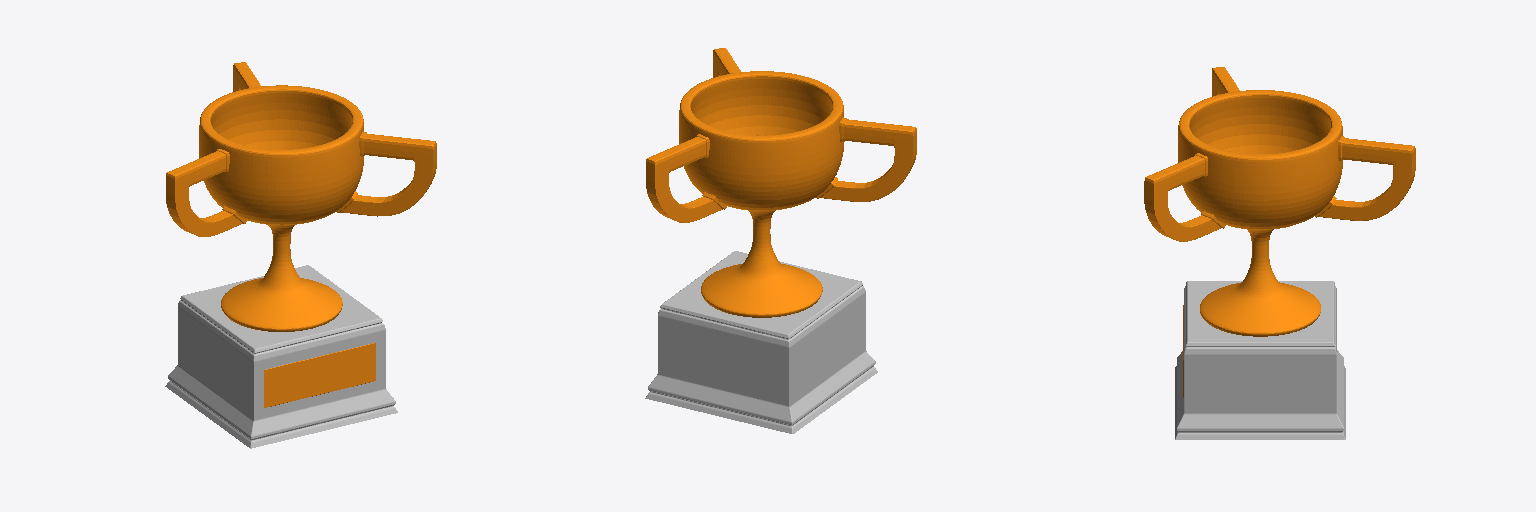
Rendered from yourewinner.obj.
3 renders of one model, left to right at view 1: azimuth 30°, elevation 25°; view 2: azimuth 150°, elevation 25°; view 3: azimuth 270°, elevation 25°, orthographic.
Visible parts, largest first — view 1: trophy, base, handle; view 2: trophy, base, handle; view 3: trophy, base, handle.
Boxes of the visible parts, box(x1,y1,x2,y2) form: trophy: box(199, 85, 364, 331); base: box(165, 265, 397, 448); handle: box(166, 62, 436, 236); trophy: box(679, 71, 844, 317); base: box(645, 251, 877, 433); handle: box(646, 48, 916, 222); trophy: box(1178, 90, 1342, 336); base: box(1175, 281, 1345, 439); handle: box(1144, 67, 1415, 241).
Bounding box in the file's own units: 4.53 × 5.15 × 4.51.